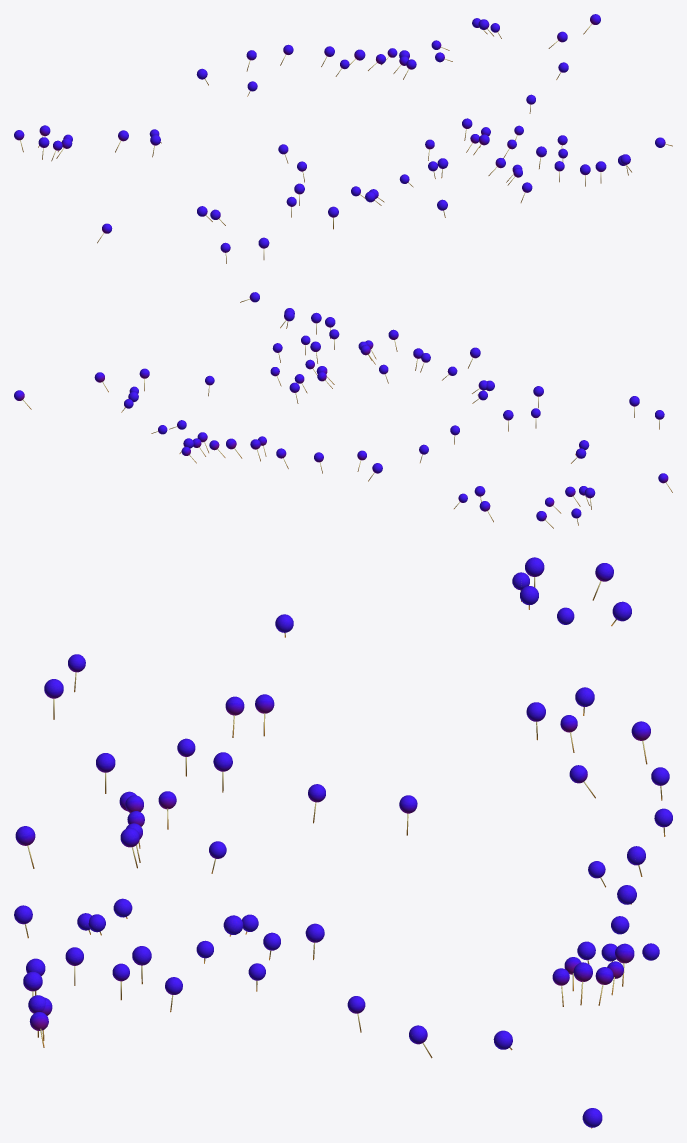
File: ptb.fbx
3 views of the same model, one above another, from view 1: azimuth 30°, elevation 25°; view 2: azimuth 150°, elevation 25°; view 3: azimuth 270°, elevation 25° (orthographic). The views are drawn at different scales.
Parts seen in each view (by area): view 1: treePurpleBunch; view 2: treePurpleBunch; view 3: treePurpleBunch.
Boxes of the visible parts, x1,y1,x2,y2 form: treePurpleBunch: (14, 14, 672, 263); treePurpleBunch: (14, 292, 672, 528); treePurpleBunch: (14, 557, 672, 1128).
Size of the model in its own units: 28739 by 2573 by 15402.
1 material, 1 textured.
